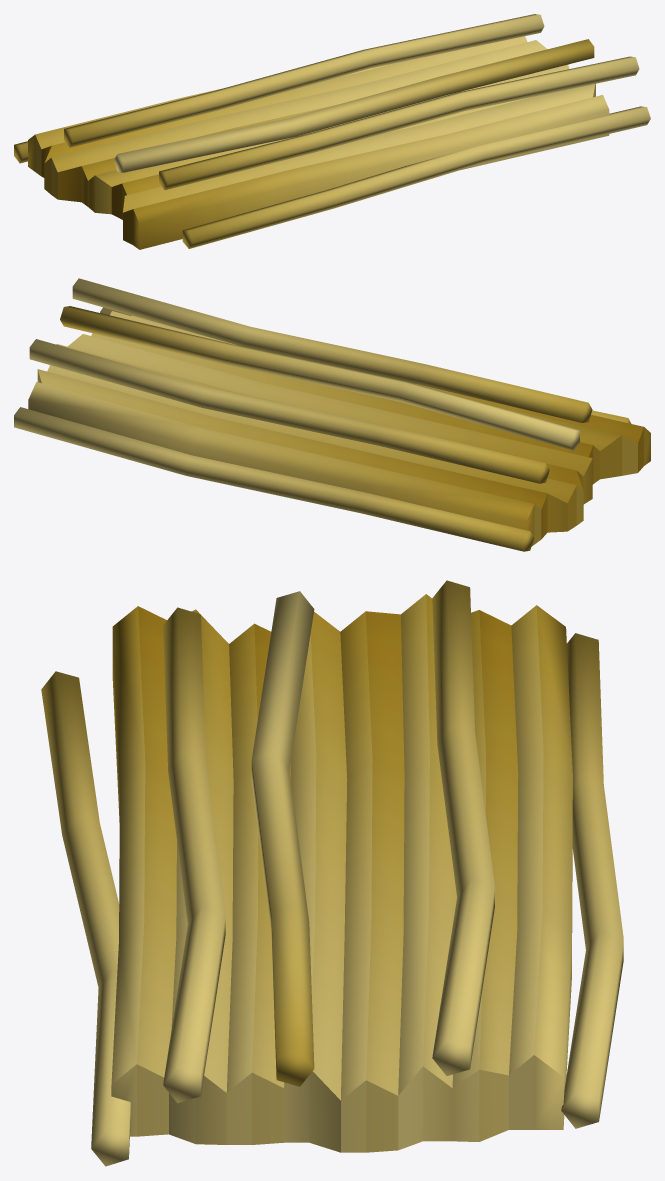
Rendered from SM_Bamboo_Pile_02.fbx.
3 views of the same model, one above another, from view 1: azimuth 30°, elevation 25°; view 2: azimuth 150°, elevation 25°; view 3: azimuth 270°, elevation 25° (orthographic). The views are drawn at different scales.
Visible parts, largest first — view 1: SM_Bamboo_Pile_02; view 2: SM_Bamboo_Pile_02; view 3: SM_Bamboo_Pile_02.
Boxes of the visible parts, bbox=[...] form: SM_Bamboo_Pile_02: bbox=[14, 14, 650, 249]; SM_Bamboo_Pile_02: bbox=[14, 278, 650, 551]; SM_Bamboo_Pile_02: bbox=[41, 580, 623, 1166].
Bounding box in the file's own units: 4.17 × 0.4253 × 2.01.
